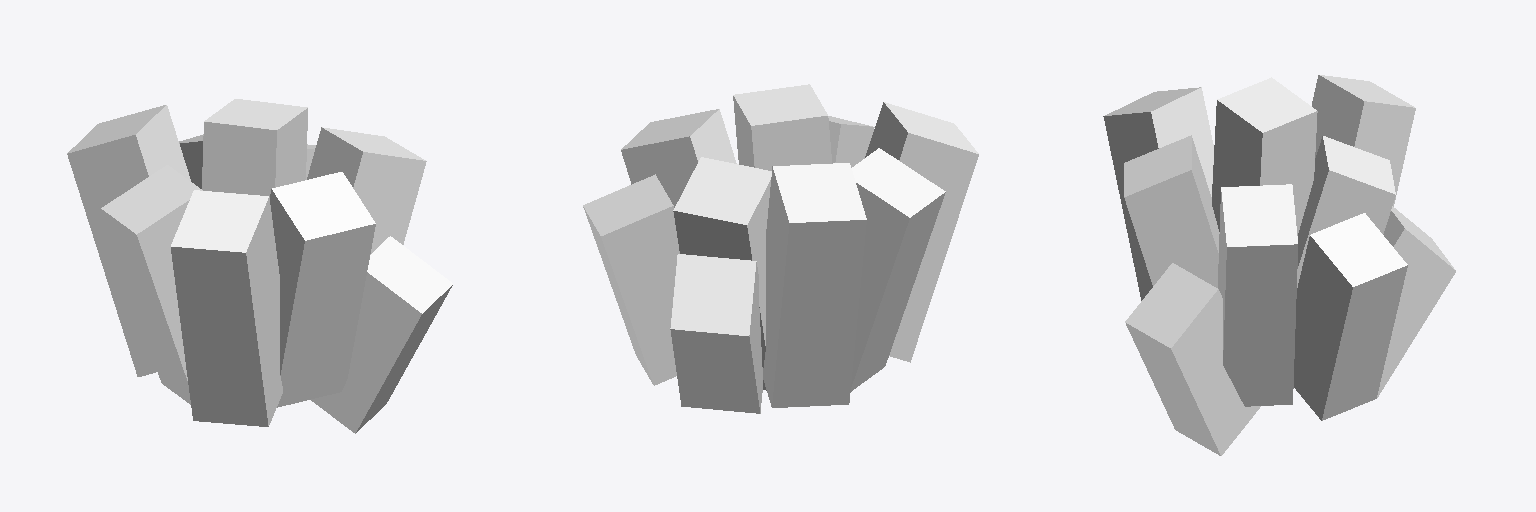
Rendered from crystal.obj.
3 renders of one model, left to right at view 1: azimuth 30°, elevation 25°; view 2: azimuth 150°, elevation 25°; view 3: azimuth 270°, elevation 25°, orthographic.
Parts seen in each view (by area): view 1: crystal; view 2: crystal; view 3: crystal.
Boxes of the visible parts, x1,y1,x2,y2 form: crystal: [67, 99, 452, 433]; crystal: [583, 84, 978, 413]; crystal: [1103, 75, 1455, 455].
Size of the model in its own units: 0.9683 by 0.9414 by 0.9961.